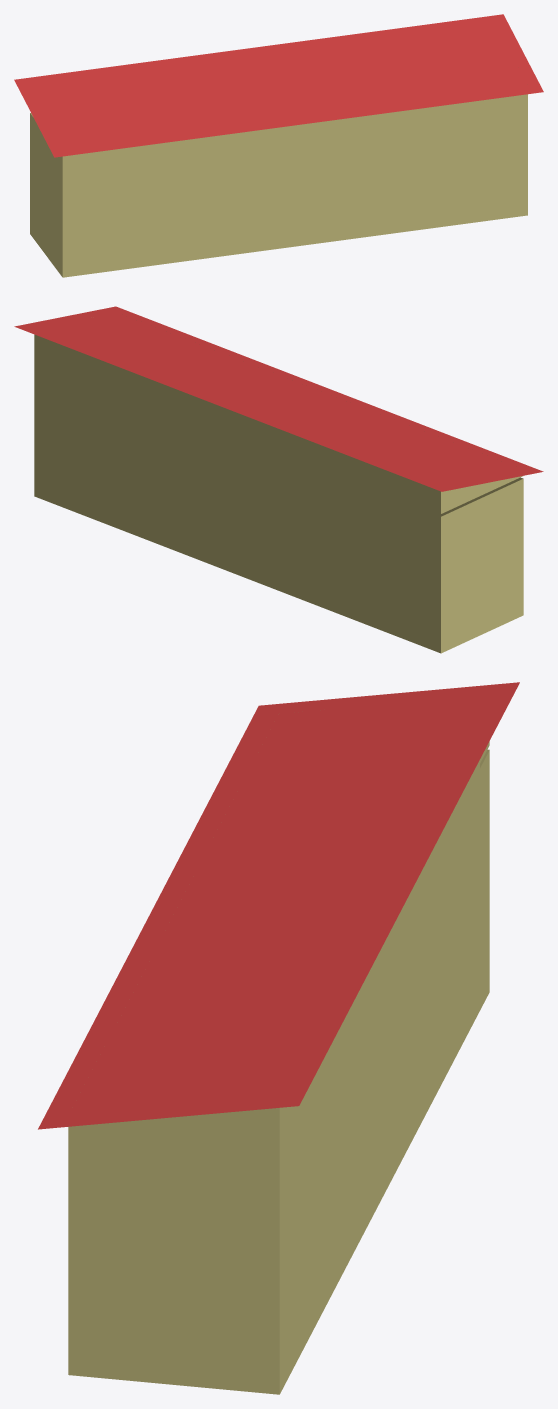
3 views of the same model, one above another, from view 1: azimuth 30°, elevation 25°; view 2: azimuth 150°, elevation 25°; view 3: azimuth 270°, elevation 25° (orthographic). The views are drawn at different scales.
Size of the model in its own units: 20.73 by 9.43 by 6.51.
